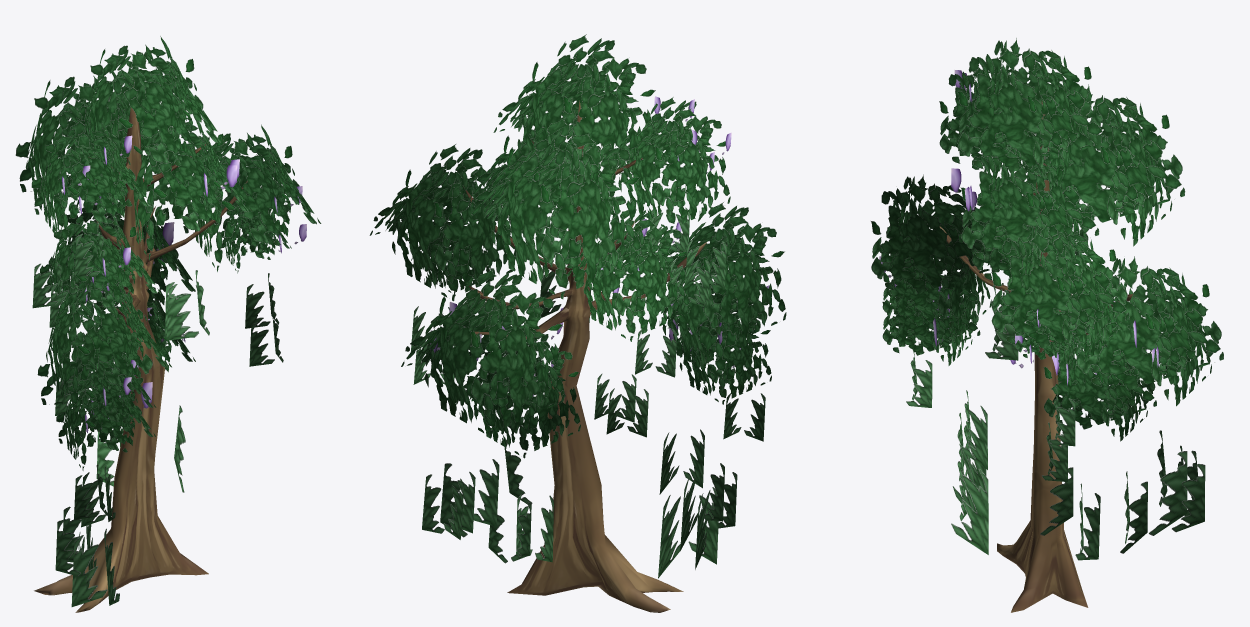
File: F_TreeCrying.fbx
3 renders of one model, left to right at view 1: azimuth 30°, elevation 25°; view 2: azimuth 150°, elevation 25°; view 3: azimuth 270°, elevation 25°, orthographic.
Parts seen in each view (by area): view 1: F_Tree1Crying; view 2: F_Tree1Crying; view 3: F_Tree1Crying.
Boxes of the visible parts, x1=… form: F_Tree1Crying: x1=15, y1=36, x2=321, y2=612; F_Tree1Crying: x1=369, y1=34, x2=786, y2=612; F_Tree1Crying: x1=871, y1=38, x2=1223, y2=612.
Size of the model in its own units: 494 by 774 by 482.
